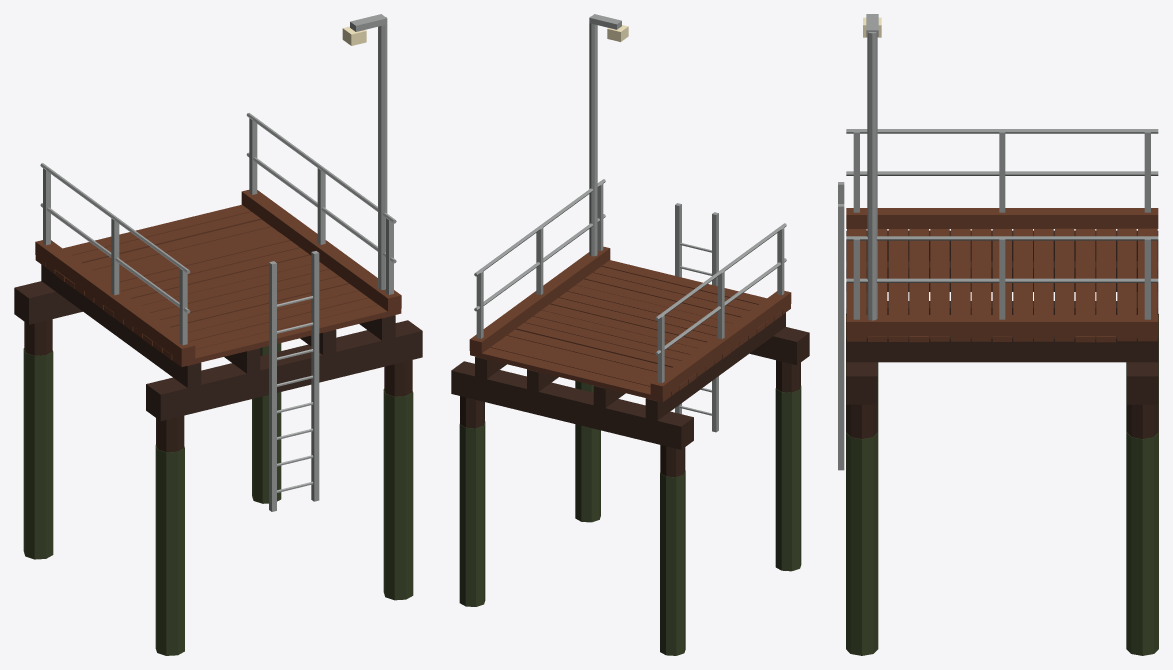
Rendered from jetty_end.glb.
The picture shows the model from 3 angles, left to right: view 1: azimuth 30°, elevation 25°; view 2: azimuth 150°, elevation 25°; view 3: azimuth 270°, elevation 25°; orthographic projection. The views are drawn at different scales.
Visible parts, largest first — view 1: JettyEnd; view 2: JettyEnd; view 3: JettyEnd.
Part boxes in pixels (left/top/right/bottom): JettyEnd: left=14, top=14, right=422, bottom=655; JettyEnd: left=451, top=14, right=809, bottom=655; JettyEnd: left=838, top=14, right=1158, bottom=655.
Bounding box in the file's own units: 3.1 × 6.52 × 3.09.
